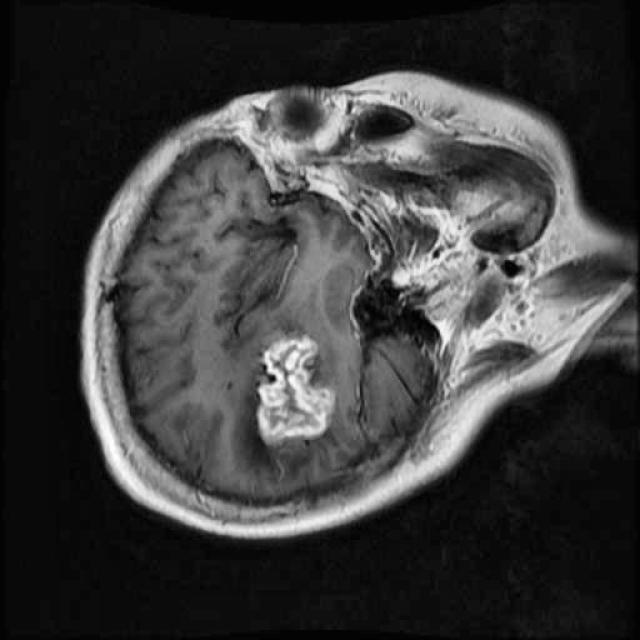Tumor: (238, 310, 342, 460)
